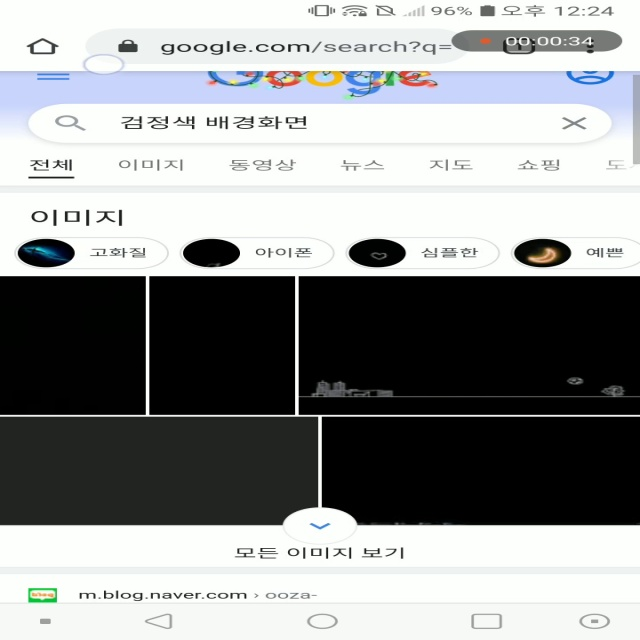Cursor: (83, 54, 128, 76)
